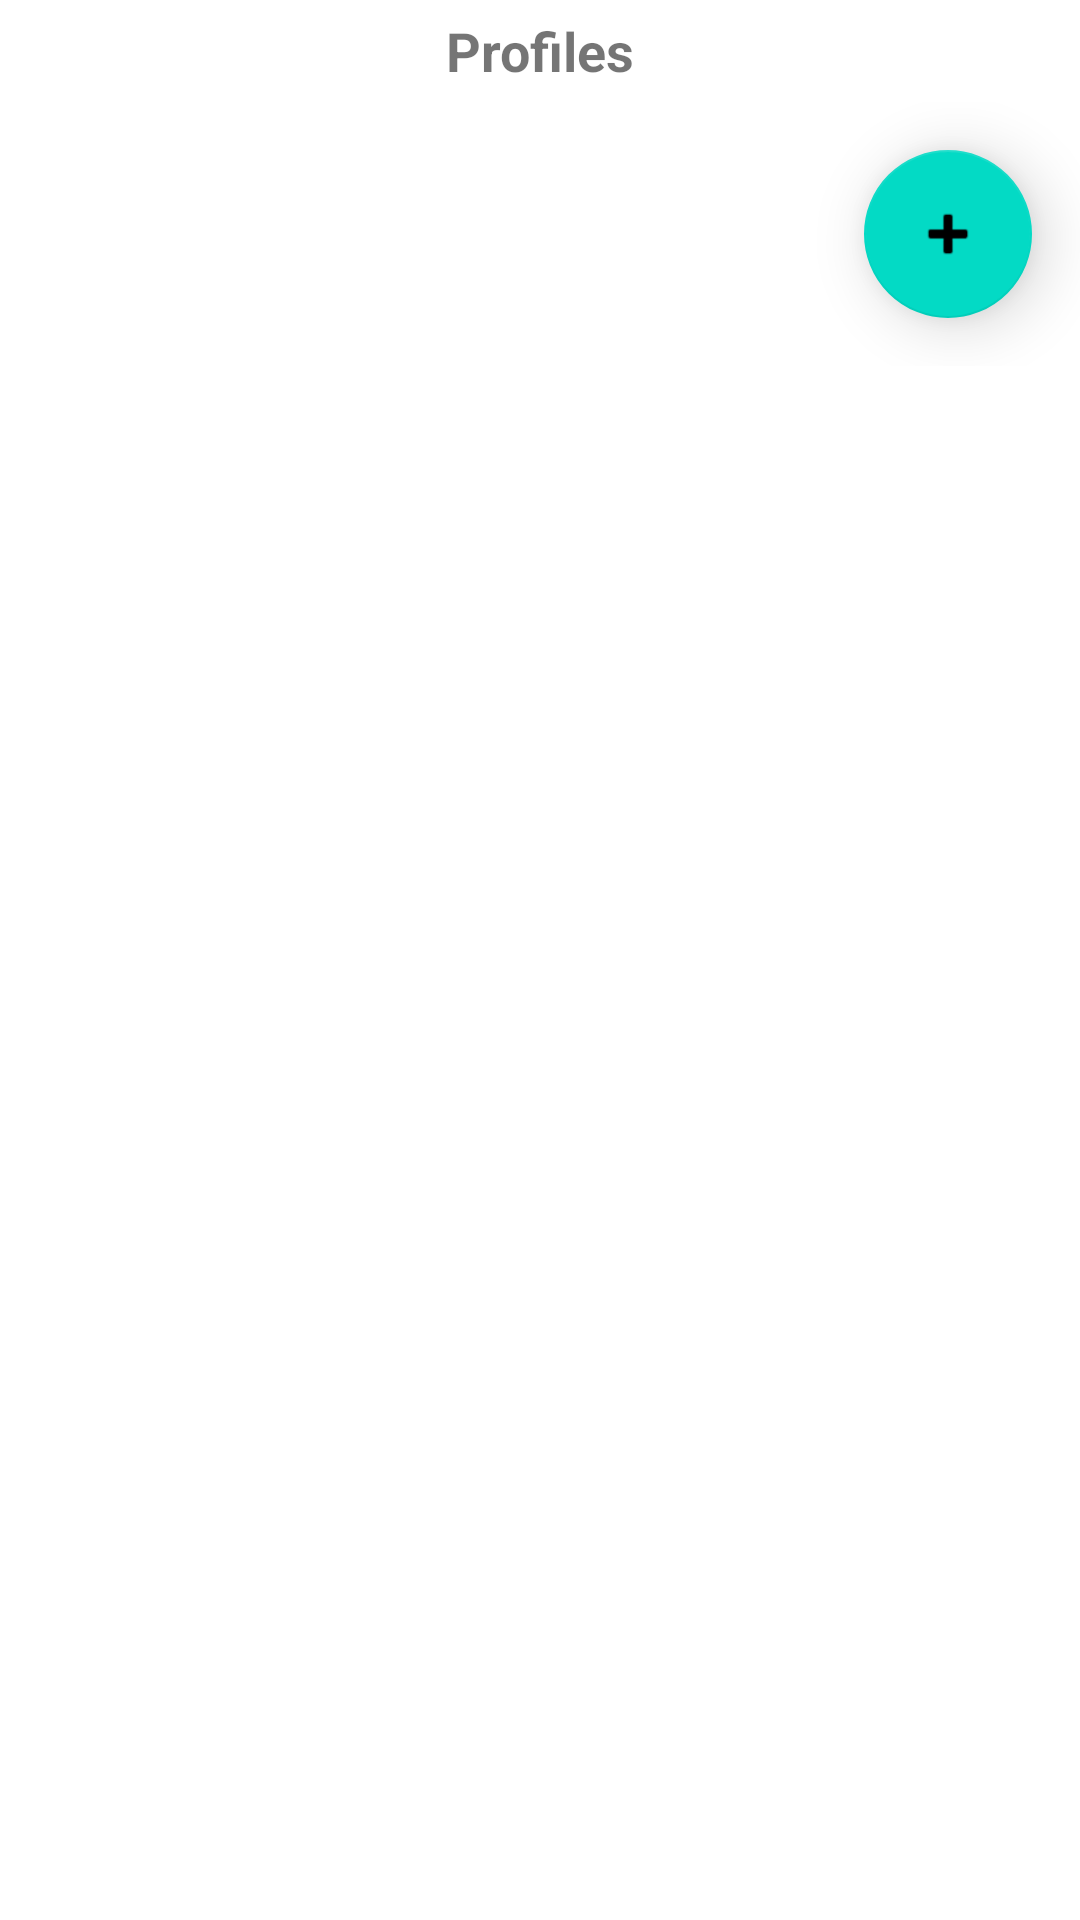

Icons on this 1080px×1920px Android screen, each with the point to tap as point (x, y):
Add: point (948, 234)
